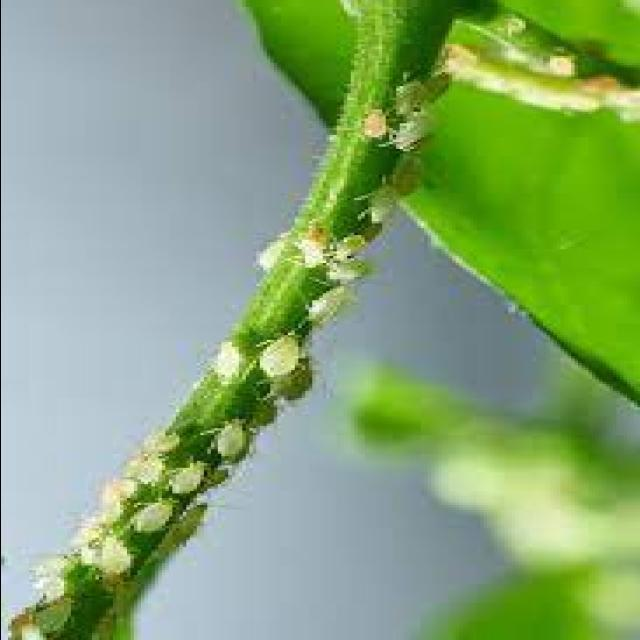aphid: (234, 324, 318, 396), (342, 175, 412, 232), (286, 282, 361, 332), (196, 414, 266, 466), (115, 493, 189, 542), (378, 110, 448, 160), (189, 335, 255, 386), (84, 530, 144, 584), (154, 457, 220, 502), (242, 232, 294, 286), (276, 230, 336, 276), (308, 256, 378, 293), (346, 105, 395, 146), (21, 549, 77, 584), (24, 572, 70, 612)
